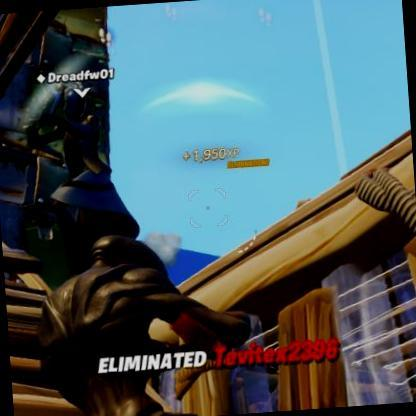person: (54, 82, 114, 266)
